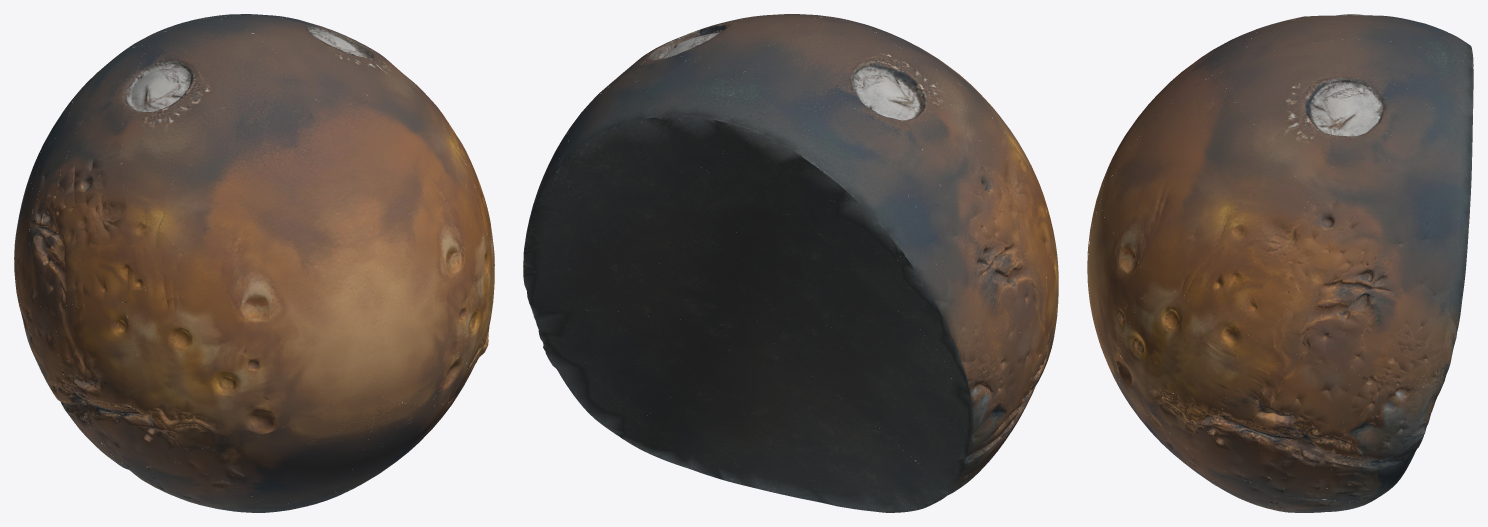
The model's file is planet_mars.glb.
3 views of the same model, side by side, from view 1: azimuth 30°, elevation 25°; view 2: azimuth 150°, elevation 25°; view 3: azimuth 270°, elevation 25° (orthographic). The views are drawn at different scales.
Visible parts, largest first — view 1: tripo_node_af1ce784-2968-4a30-95c4-6d785e4ce95c; view 2: tripo_node_af1ce784-2968-4a30-95c4-6d785e4ce95c; view 3: tripo_node_af1ce784-2968-4a30-95c4-6d785e4ce95c.
Boxes of the visible parts, x1=… form: tripo_node_af1ce784-2968-4a30-95c4-6d785e4ce95c: x1=14, y1=14, x2=494, y2=512; tripo_node_af1ce784-2968-4a30-95c4-6d785e4ce95c: x1=523, y1=14, x2=1058, y2=512; tripo_node_af1ce784-2968-4a30-95c4-6d785e4ce95c: x1=1087, y1=14, x2=1473, y2=512.
Bounding box in the file's own units: 0.9771 × 0.9803 × 0.7574.
Materials: 1 (1 with a texture image).
